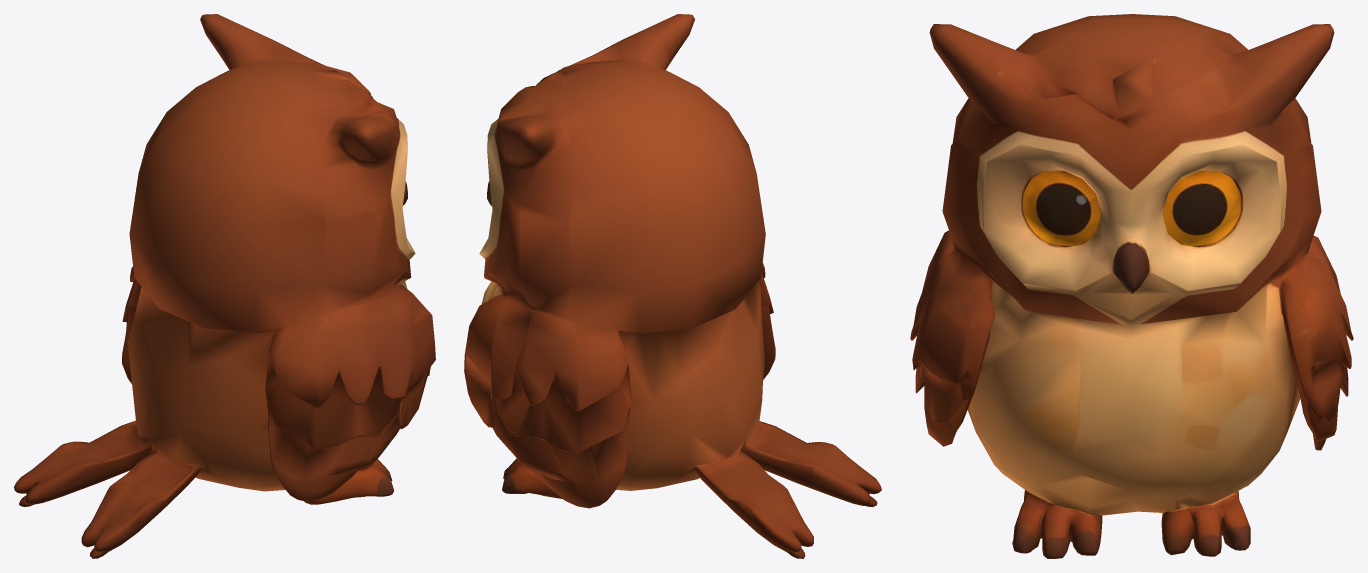
The picture shows the model from 3 angles, left to right: view 1: azimuth 30°, elevation 25°; view 2: azimuth 150°, elevation 25°; view 3: azimuth 270°, elevation 25°; orthographic projection. The views are drawn at different scales.
Visible parts, largest first — view 1: tripo_node_1bbb747f-bcff-4821-9dc4-8c4612f1776b; view 2: tripo_node_1bbb747f-bcff-4821-9dc4-8c4612f1776b; view 3: tripo_node_1bbb747f-bcff-4821-9dc4-8c4612f1776b.
Part boxes in pixels (x1,y1,x2,y2): tripo_node_1bbb747f-bcff-4821-9dc4-8c4612f1776b: (14,14,435,558); tripo_node_1bbb747f-bcff-4821-9dc4-8c4612f1776b: (464,14,881,558); tripo_node_1bbb747f-bcff-4821-9dc4-8c4612f1776b: (910,14,1353,558).
Size of the model in its own units: 0.9139 by 0.998 by 0.8082.
Materials: 1 (1 with a texture image).
